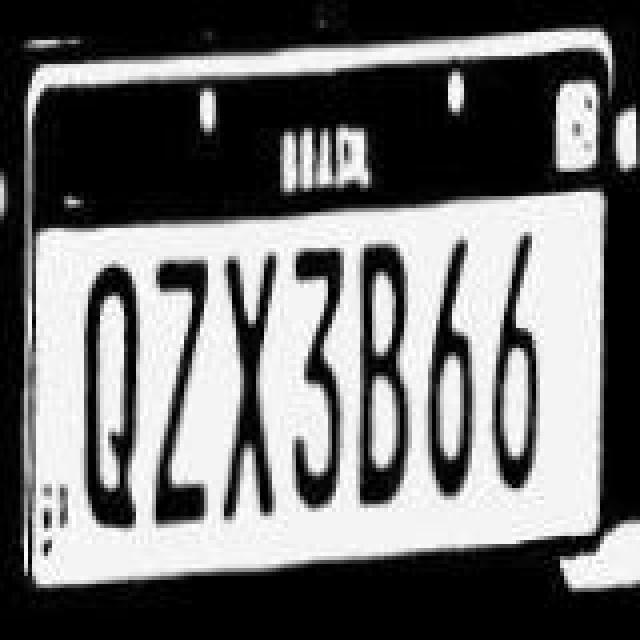3: (290, 248, 354, 516)
6: (480, 230, 544, 494), (418, 240, 478, 504)
B: (356, 242, 416, 510)
Q: (76, 260, 144, 532)
X: (216, 252, 284, 524)
Z: (148, 258, 216, 526)
